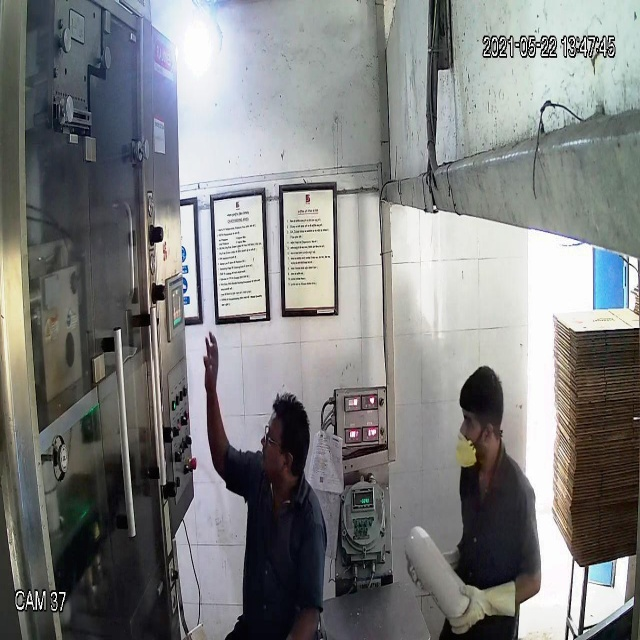Gafas: (258, 420, 294, 456)
